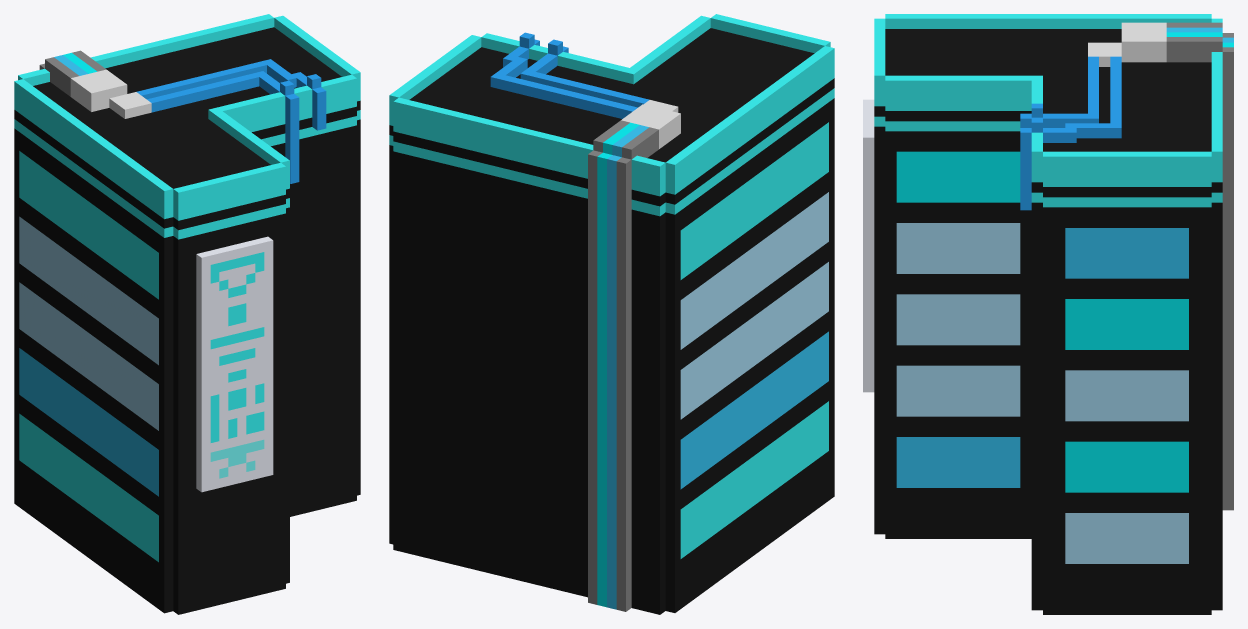
The model's file is building-2.obj.
3 renders of one model, left to right at view 1: azimuth 30°, elevation 25°; view 2: azimuth 150°, elevation 25°; view 3: azimuth 270°, elevation 25°, orthographic. The views are drawn at different scales.
Size of the model in its own units: 3 by 4.6 by 3.3.
Materials: 1 (1 with a texture image).
